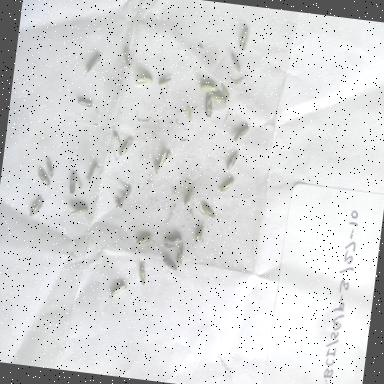pbw: (85, 49, 107, 77), (191, 215, 209, 249), (180, 185, 201, 213), (73, 91, 97, 115), (206, 87, 231, 110), (222, 146, 240, 176), (117, 134, 134, 160), (28, 194, 45, 220), (34, 166, 52, 190), (66, 204, 91, 221), (202, 90, 216, 120), (162, 232, 183, 252), (108, 281, 128, 302), (198, 198, 217, 220), (118, 46, 134, 71), (134, 262, 150, 287), (156, 148, 172, 173), (232, 123, 250, 145), (227, 50, 243, 74), (217, 176, 236, 196), (238, 25, 251, 53), (42, 154, 56, 180), (174, 241, 186, 270), (160, 256, 180, 273), (86, 160, 100, 184), (135, 74, 155, 90), (134, 232, 154, 248), (66, 172, 78, 198), (197, 80, 216, 96), (156, 74, 173, 90), (72, 170, 84, 192), (219, 80, 232, 100), (111, 129, 124, 147)
